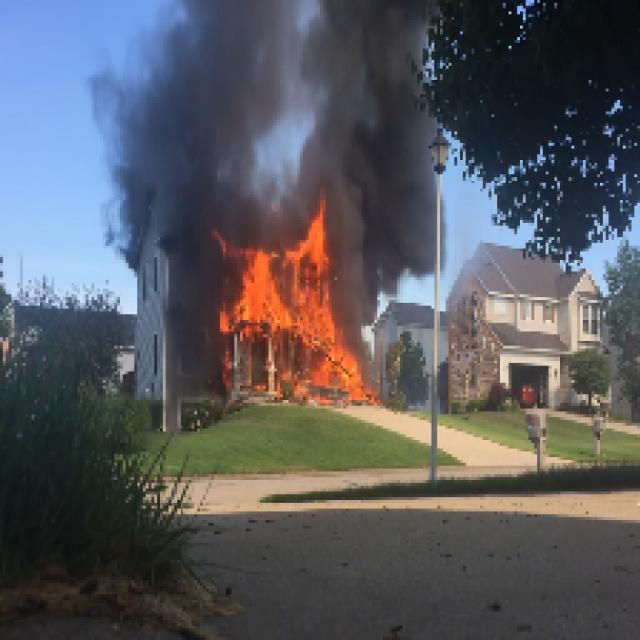fire: (225, 245, 358, 408)
smoke: (141, 2, 422, 201)
